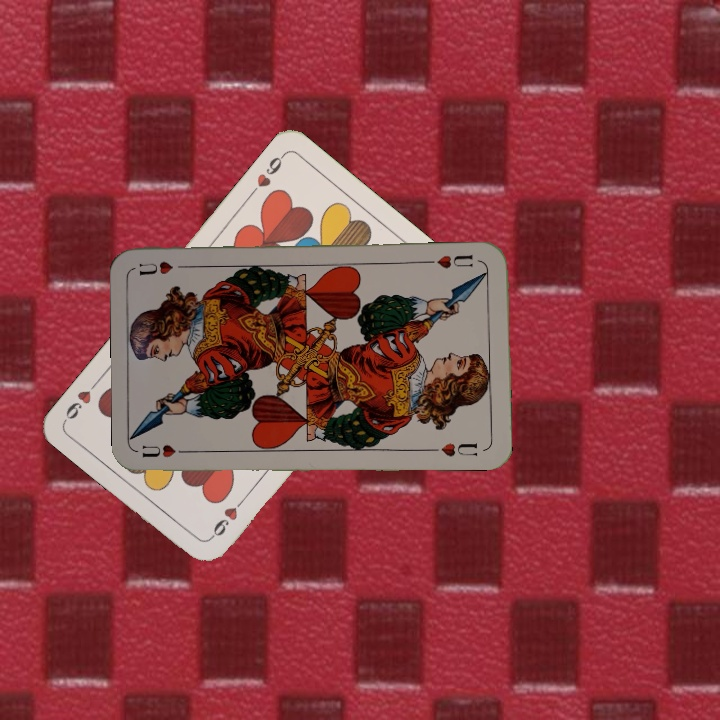H9: (205, 493, 249, 542), (245, 150, 288, 199)
HU: (137, 440, 196, 460), (424, 251, 475, 271)
